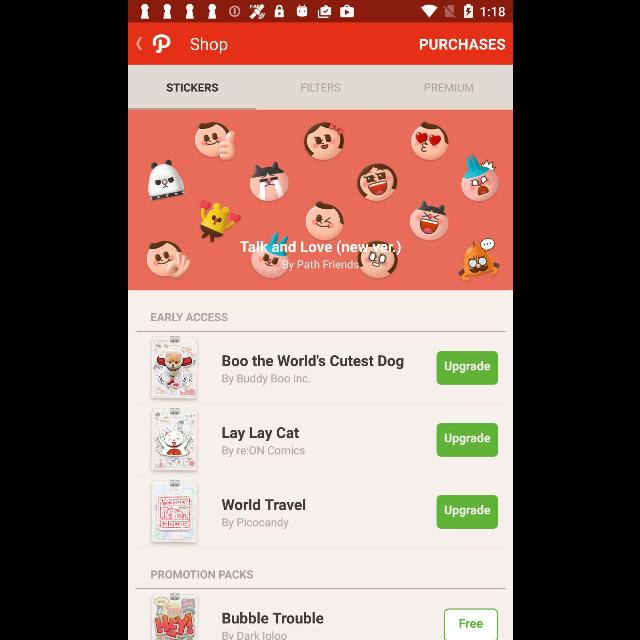icon: (136, 38, 142, 51)
image: (128, 110, 512, 290), (150, 408, 198, 472), (150, 480, 198, 542), (150, 336, 196, 398), (150, 594, 198, 640), (152, 34, 170, 54)
text: (222, 354, 402, 370), (240, 240, 400, 256), (222, 612, 322, 624), (222, 427, 298, 441), (222, 374, 310, 386), (151, 570, 253, 580), (221, 499, 305, 511), (282, 259, 358, 271), (419, 40, 505, 50), (222, 446, 304, 456), (150, 312, 228, 322), (222, 518, 288, 528), (222, 630, 286, 640), (190, 37, 227, 54), (166, 84, 218, 92), (423, 84, 472, 92), (300, 84, 340, 92)
textbutton: (436, 495, 498, 529), (436, 423, 498, 457), (436, 351, 498, 385), (443, 608, 497, 640)
toolbar: (128, 24, 512, 64)
uppertaskbar: (128, 1, 512, 23)
